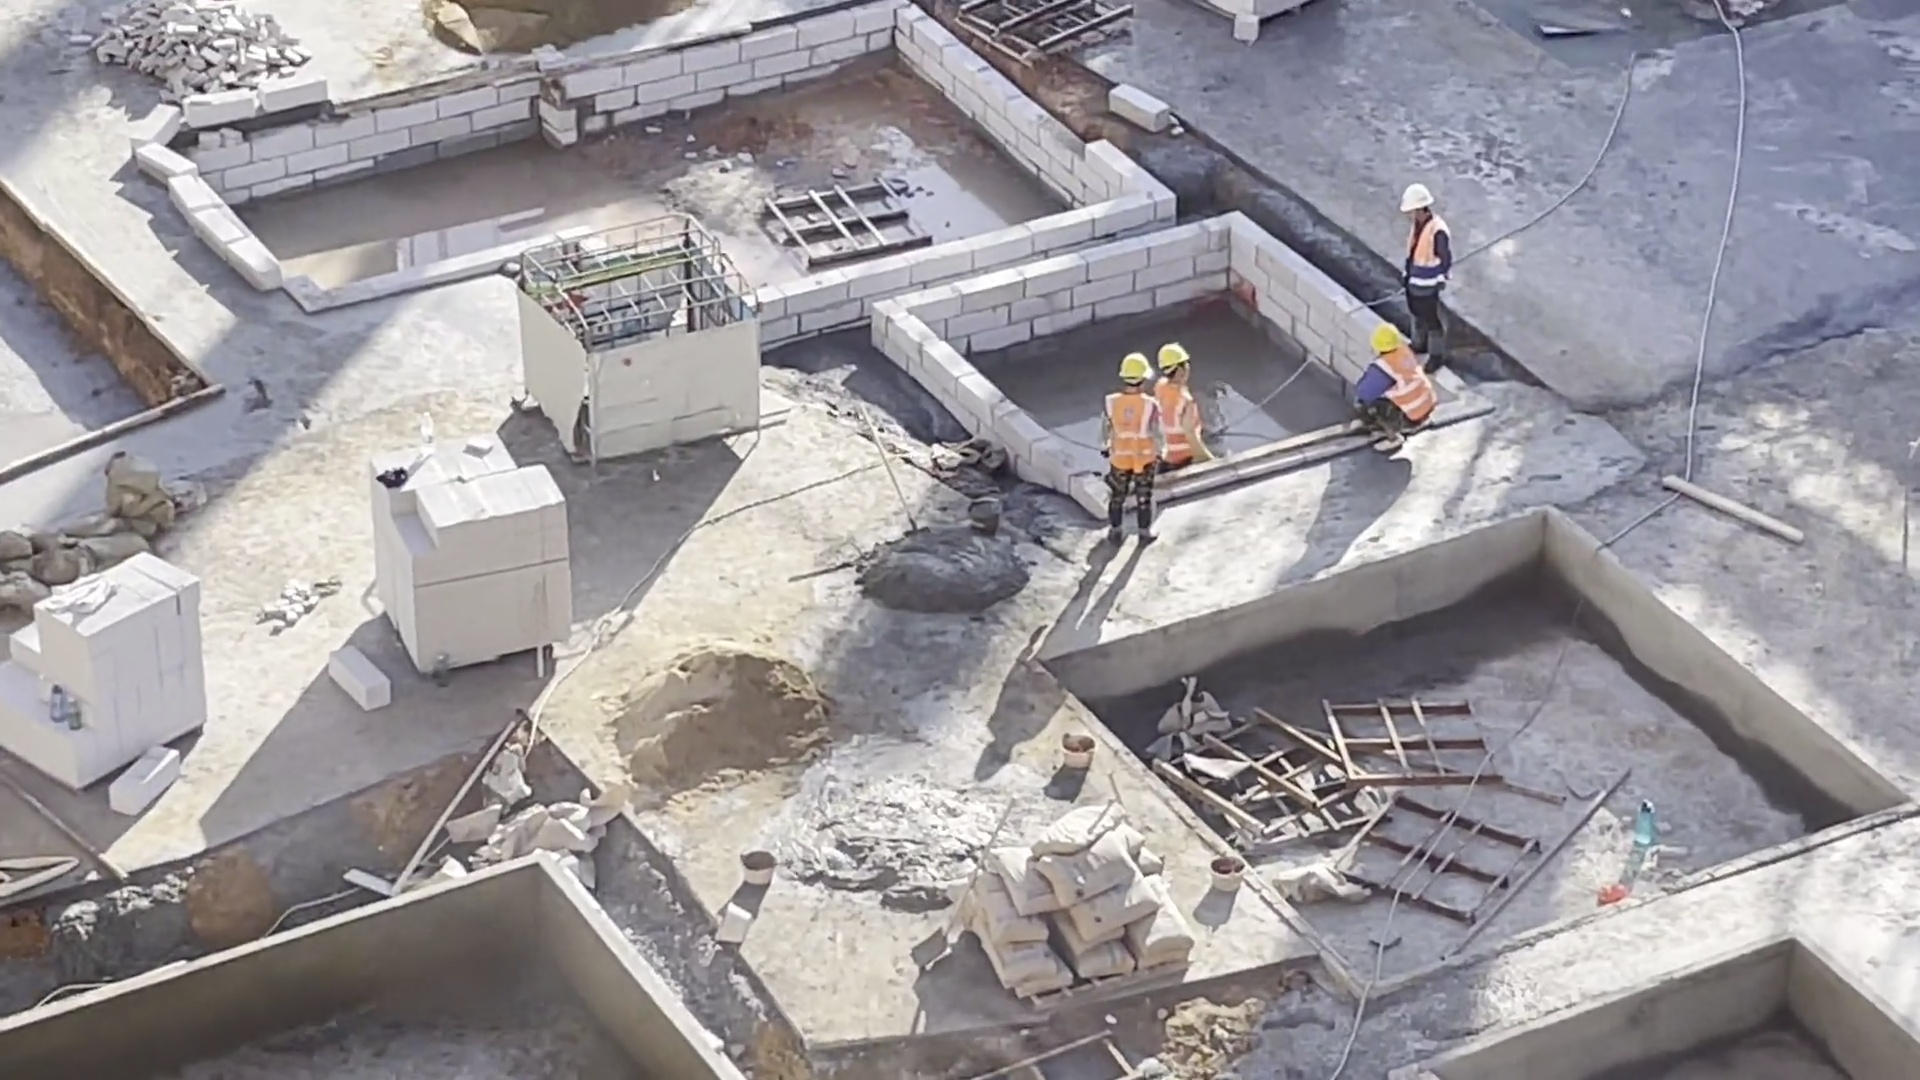brick: (6, 541, 223, 780), (360, 446, 584, 665)
helmet: (1367, 309, 1405, 357), (1152, 338, 1192, 365), (1396, 179, 1431, 208), (1118, 350, 1150, 379)
person: (1388, 174, 1455, 364), (1352, 319, 1441, 446), (1137, 348, 1214, 479), (1097, 345, 1162, 498)
vest: (1363, 345, 1437, 427), (1398, 215, 1453, 292), (1153, 382, 1197, 461), (1115, 385, 1153, 472)
